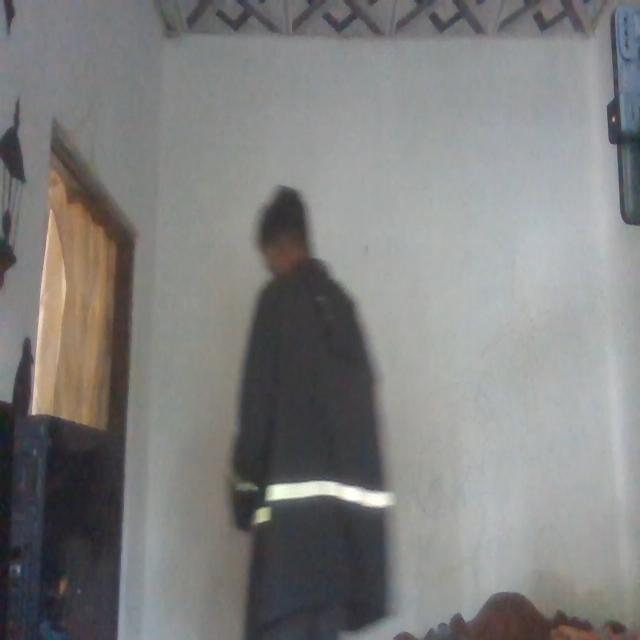Jacket_Wearer: (230, 271, 380, 620)
Person: (217, 182, 390, 640)
